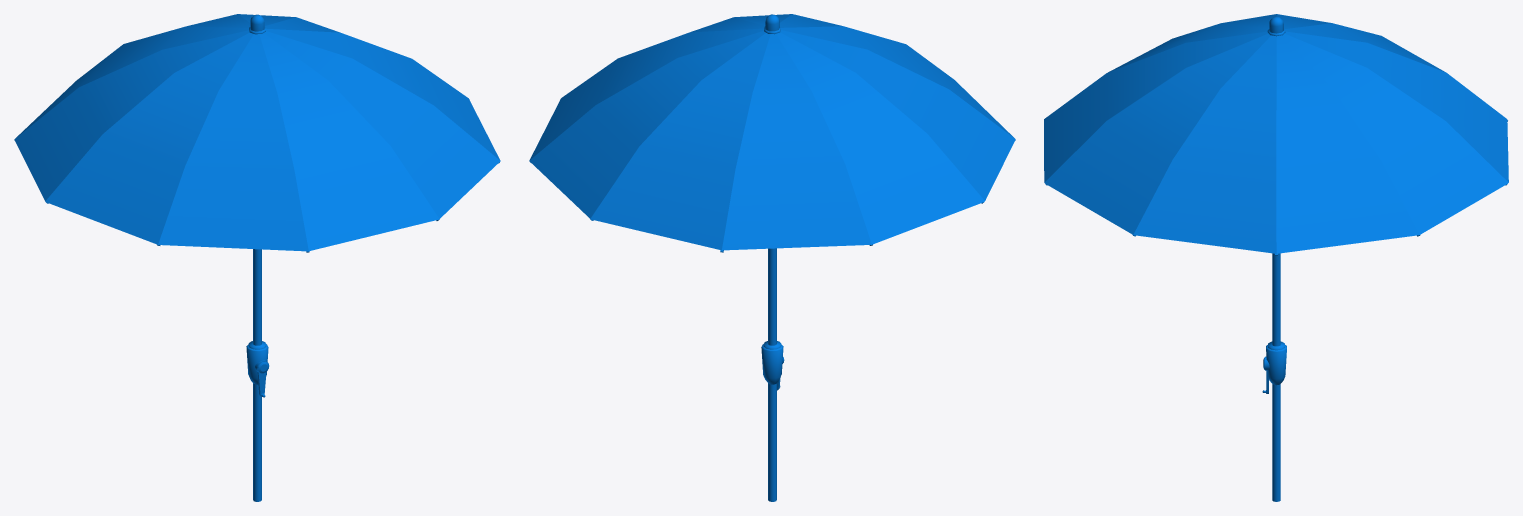
File: SM_cafeparasol.fbx
3 views of the same model, side by side, from view 1: azimuth 30°, elevation 25°; view 2: azimuth 150°, elevation 25°; view 3: azimuth 270°, elevation 25° (orthographic).
Parts seen in each view (by area): view 1: cafe_parasol; view 2: cafe_parasol; view 3: cafe_parasol.
Part boxes in pixels (bbox=[...]): cafe_parasol: bbox=[14, 14, 500, 501]; cafe_parasol: bbox=[529, 14, 1015, 501]; cafe_parasol: bbox=[1044, 14, 1508, 501].
Size of the model in its own units: 220 by 241 by 210.
